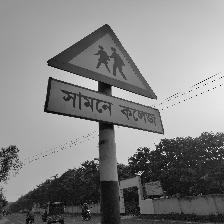College-in-front: (45, 25, 183, 144)
